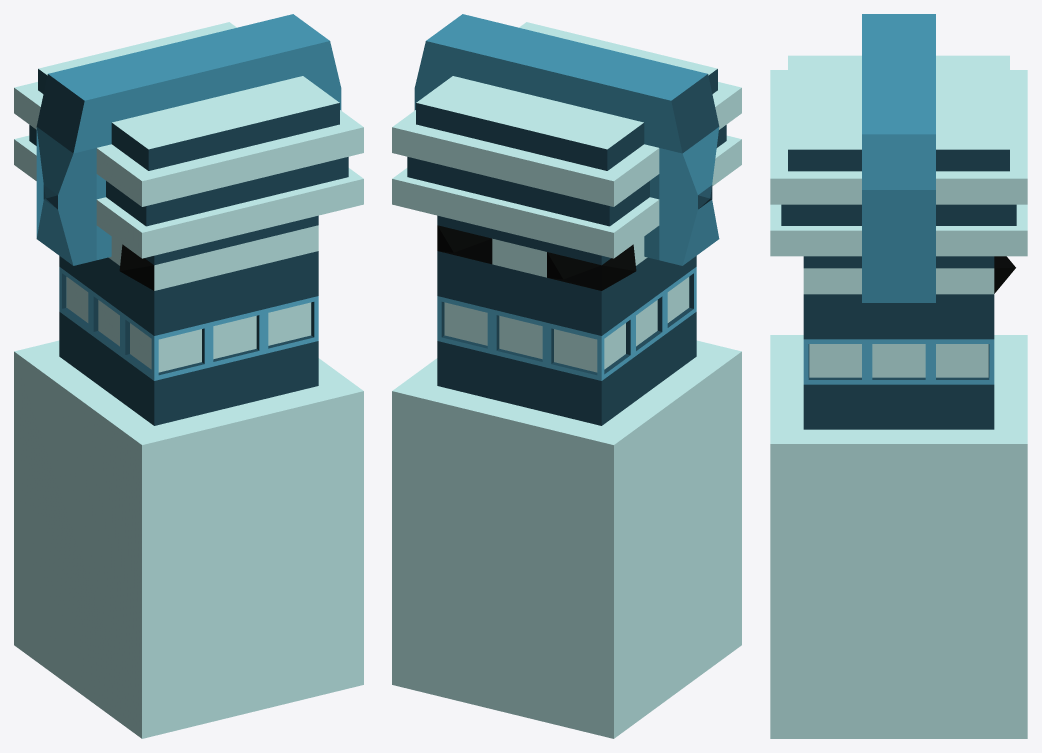
Rendered from Building3.fbx.
3 renders of one model, left to right at view 1: azimuth 30°, elevation 25°; view 2: azimuth 150°, elevation 25°; view 3: azimuth 270°, elevation 25°, orthographic.
Visible parts, largest first — view 1: Bina3; view 2: Bina3; view 3: Bina3.
Part boxes in pixels (x1=…): Bina3: x1=14, y1=14, x2=363, y2=738; Bina3: x1=392, y1=14, x2=741, y2=738; Bina3: x1=770, y1=14, x2=1027, y2=738.
Size of the model in its own units: 7809 by 16358 by 6247.
